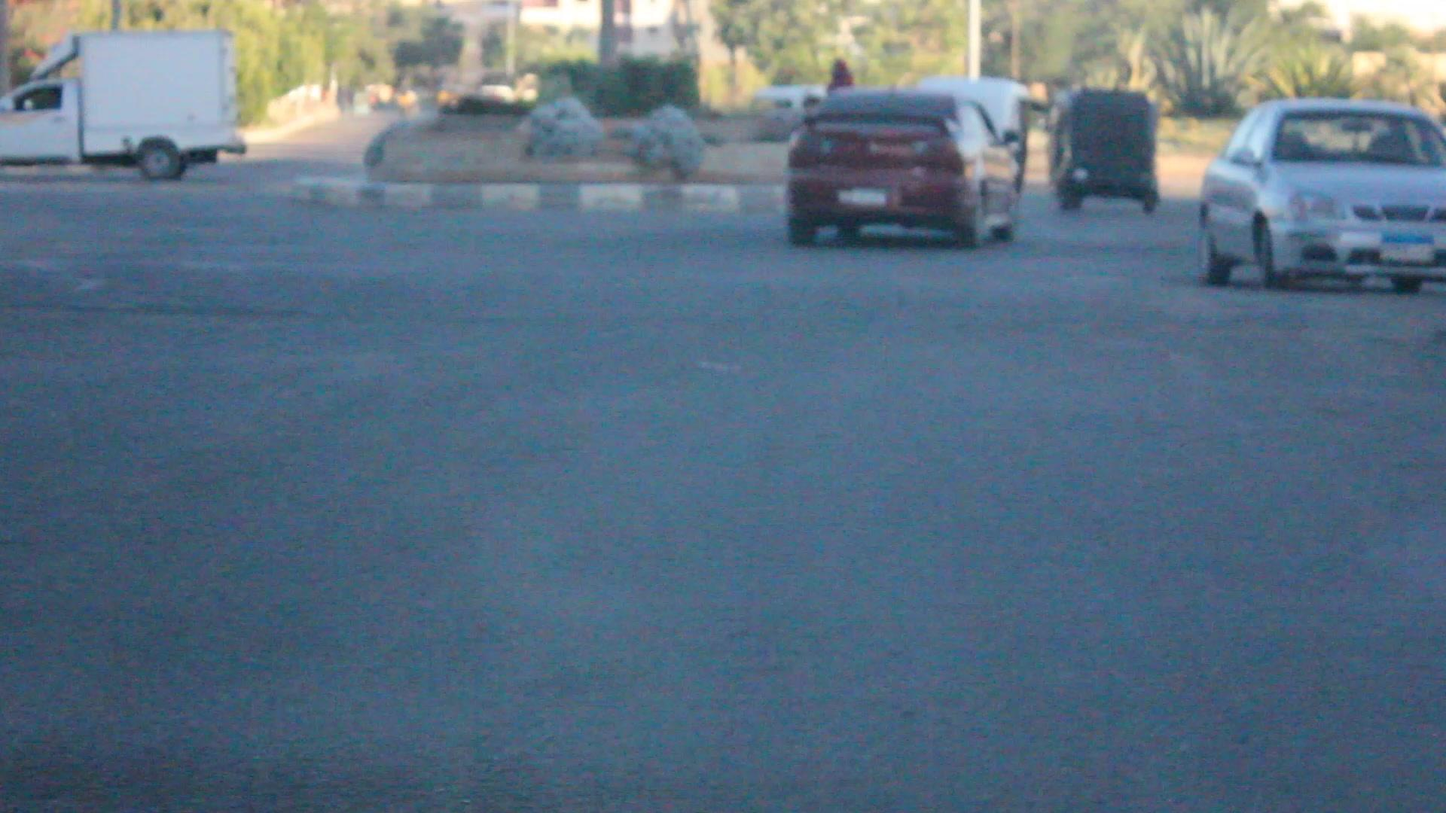Bump: (0, 230, 1446, 429)
